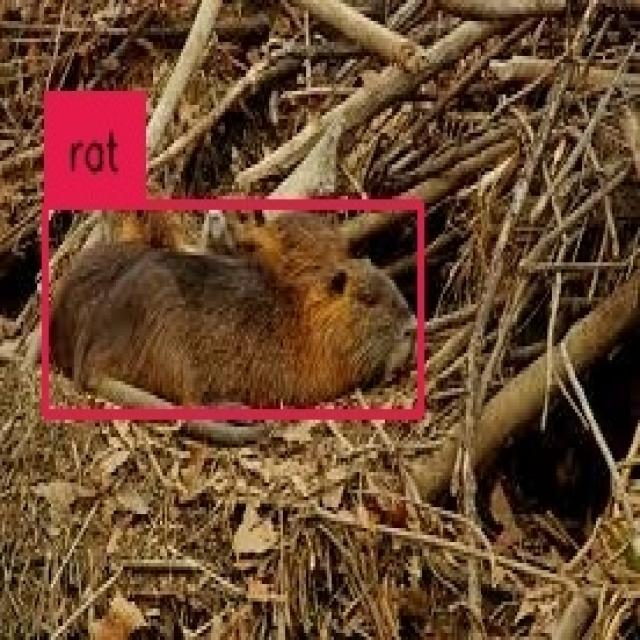rat: (45, 203, 421, 416)
